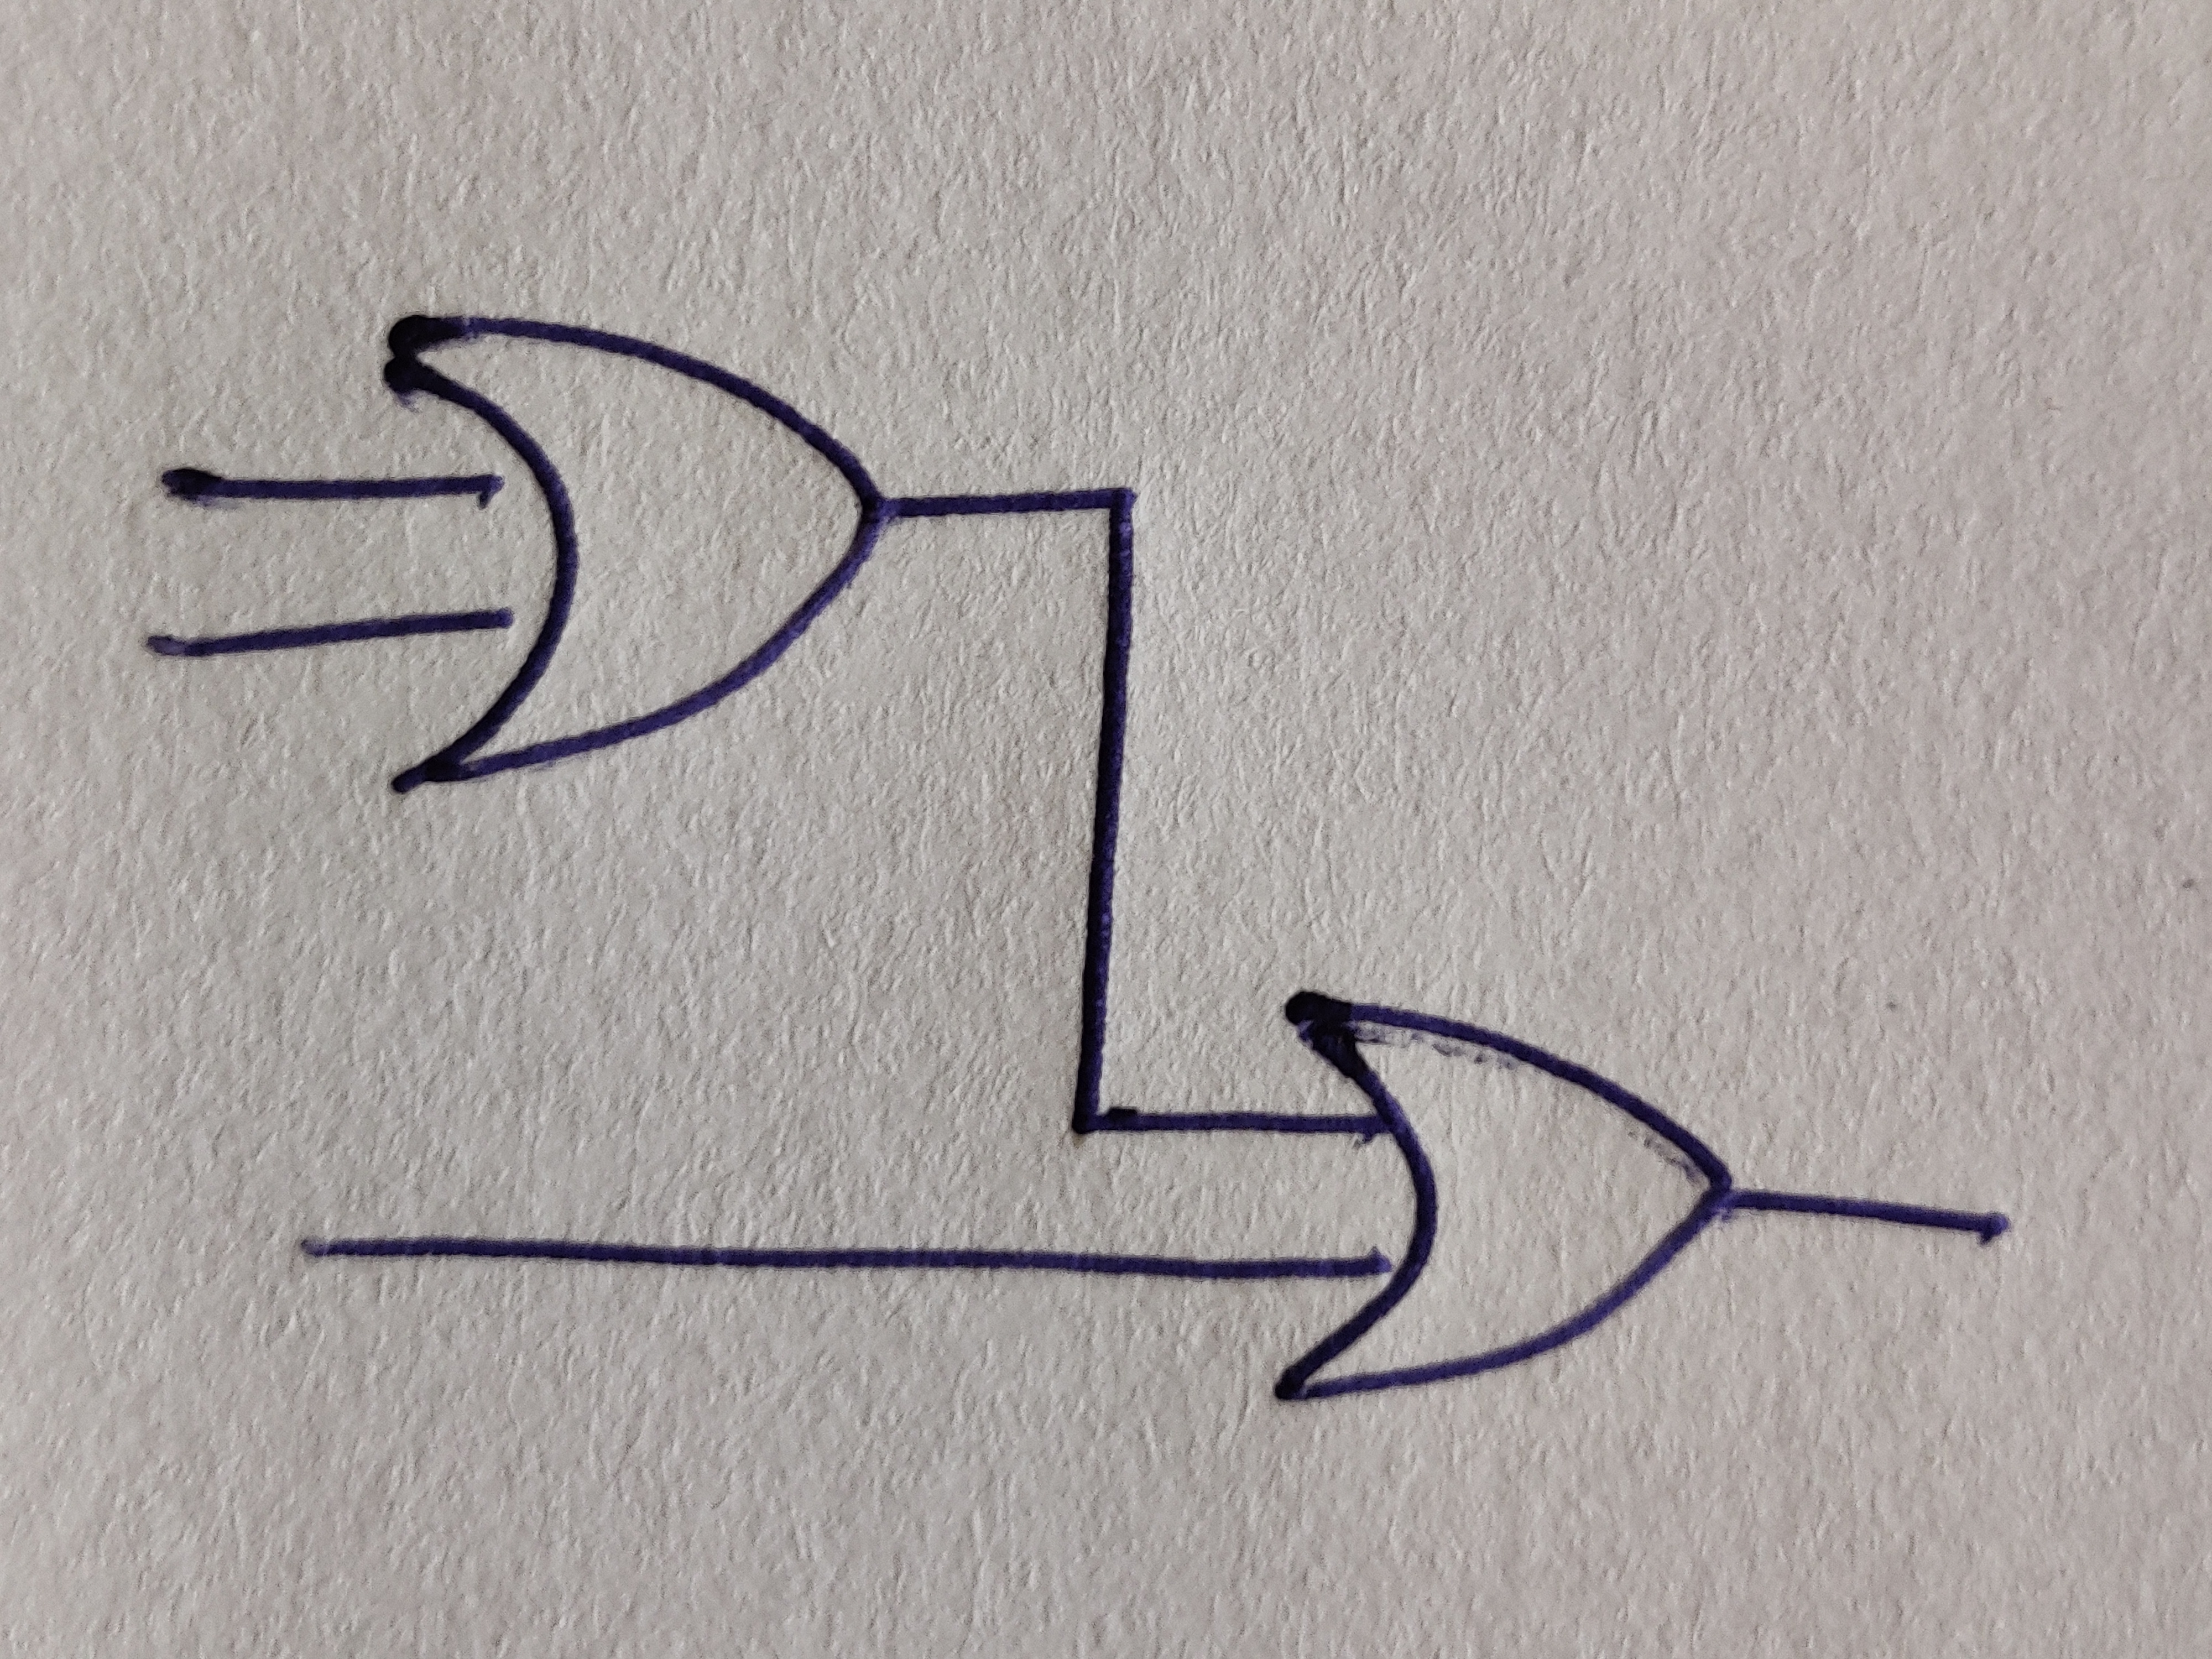or: (385, 315, 885, 795), (1273, 990, 1733, 1405)
